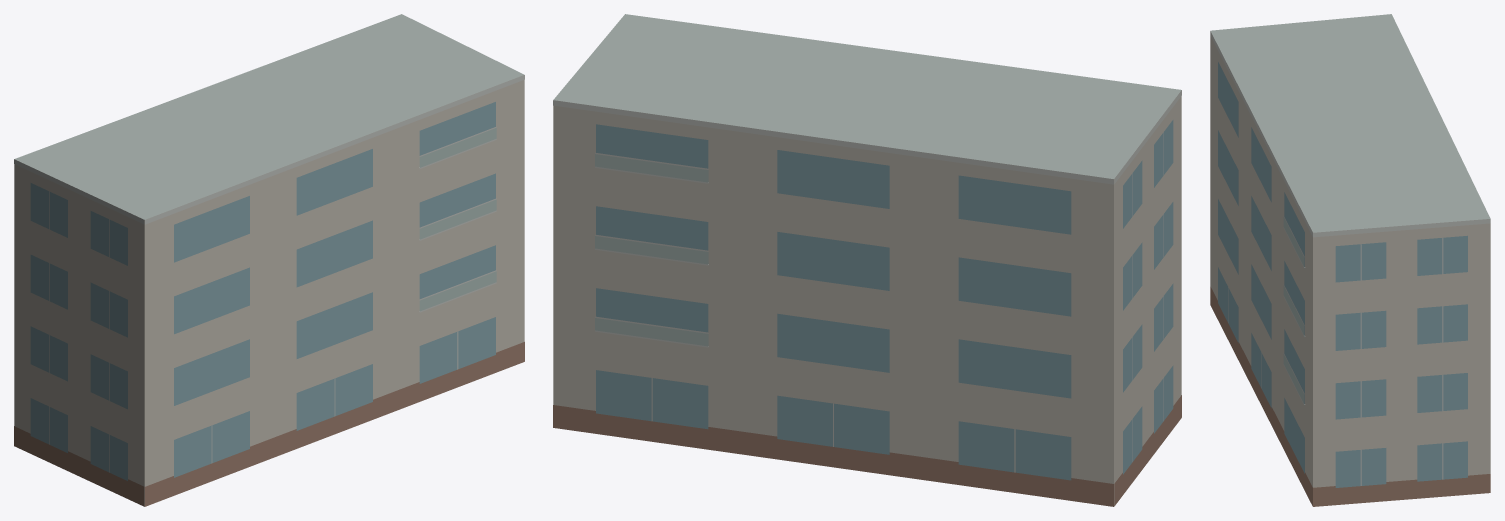
File: survey-upis-32633482.glb
3 views of the same model, side by side, from view 1: azimuth 30°, elevation 25°; view 2: azimuth 150°, elevation 25°; view 3: azimuth 270°, elevation 25° (orthographic). The views are drawn at different scales.
Visible parts, largest first — view 1: survey-upis-32633482.tmp; view 2: survey-upis-32633482.tmp; view 3: survey-upis-32633482.tmp.
Boxes of the visible parts, left/top/right/bottom form: survey-upis-32633482.tmp: left=14, top=14, right=524, bottom=506; survey-upis-32633482.tmp: left=553, top=14, right=1181, bottom=506; survey-upis-32633482.tmp: left=1210, top=14, right=1490, bottom=506.
Bounding box in the file's own units: 24.83 × 14.5 × 13.45.
